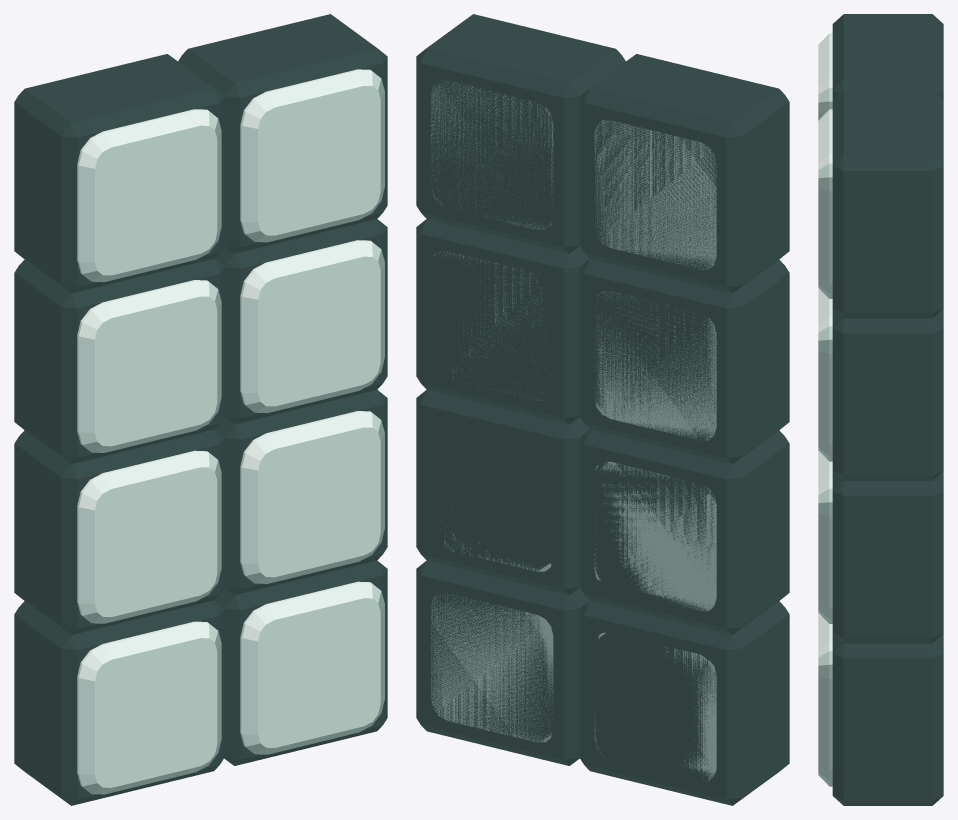
The model's file is Terrain_Block2x4.gltf.
The picture shows the model from 3 angles, left to right: view 1: azimuth 30°, elevation 25°; view 2: azimuth 150°, elevation 25°; view 3: azimuth 270°, elevation 25°; orthographic projection. The views are drawn at different scales.
Parts seen in each view (by area): view 1: Terrain_Block2x4_baked; view 2: Terrain_Block2x4_baked; view 3: Terrain_Block2x4_baked.
Part boxes in pixels (left/top/right/bottom): Terrain_Block2x4_baked: left=14, top=14, right=387, bottom=805; Terrain_Block2x4_baked: left=416, top=14, right=789, bottom=805; Terrain_Block2x4_baked: left=818, top=14, right=943, bottom=805.
Size of the model in its own units: 2 by 4 by 0.7.
